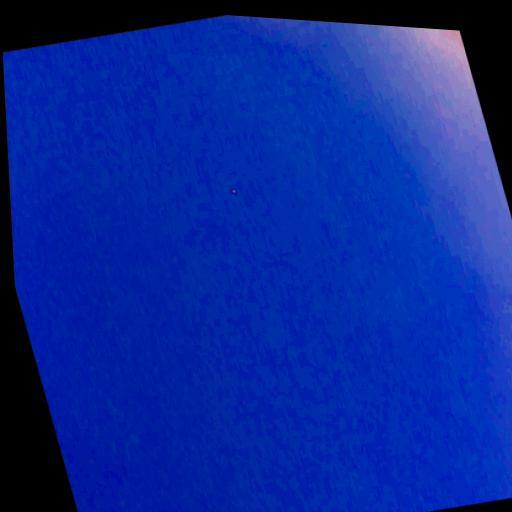drones: (227, 183, 239, 199)
